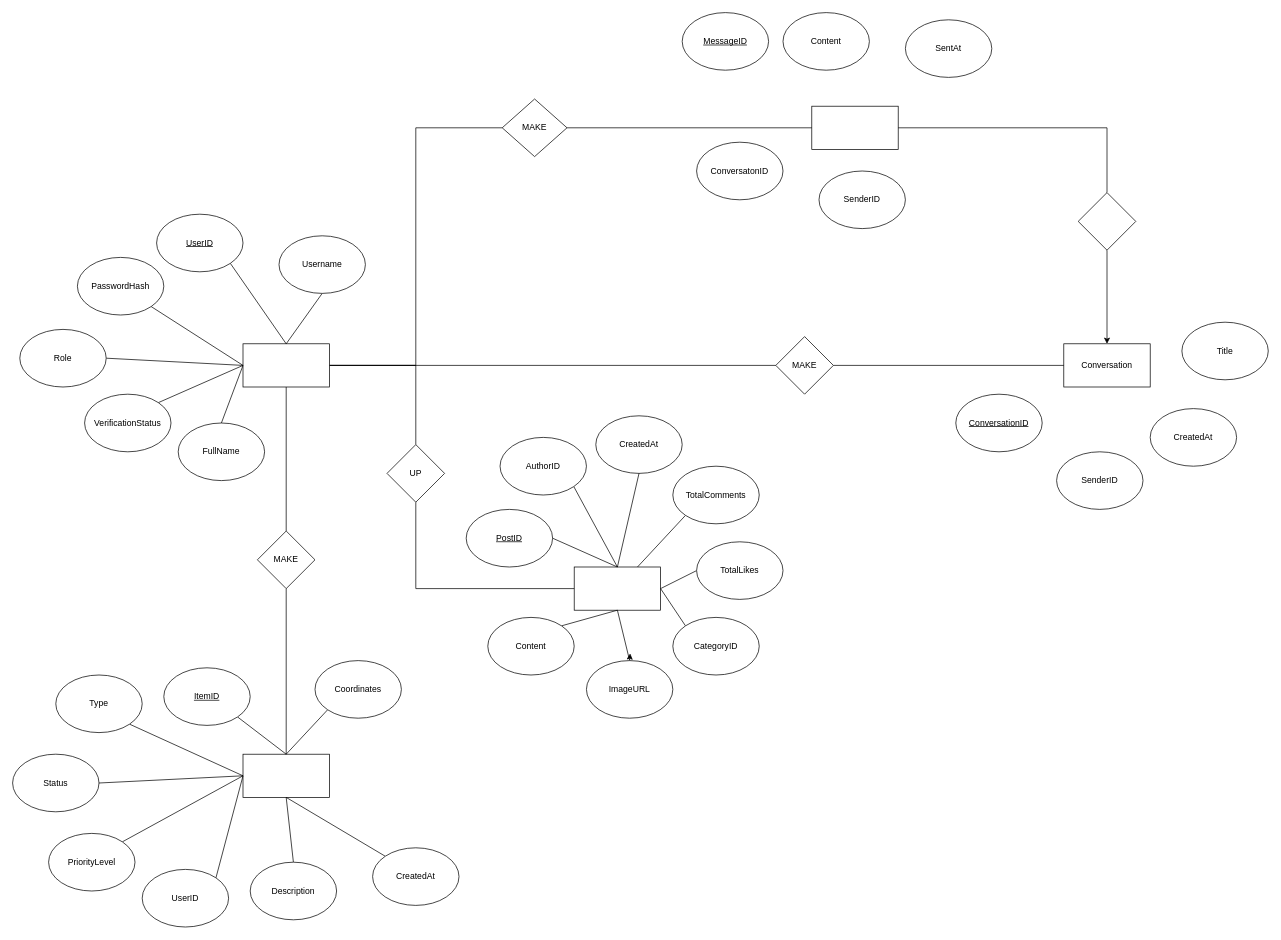
The diagram is 1281 pixels wide and 940 high, and some of its shapes have lost their labels. Each missing label, with the box of its shape:
CONNECT: (1077, 192, 1136, 250)
MapItem: (242, 753, 329, 797)
Message: (811, 105, 898, 149)
SocialPost: (573, 566, 661, 610)
User: (242, 343, 329, 387)
